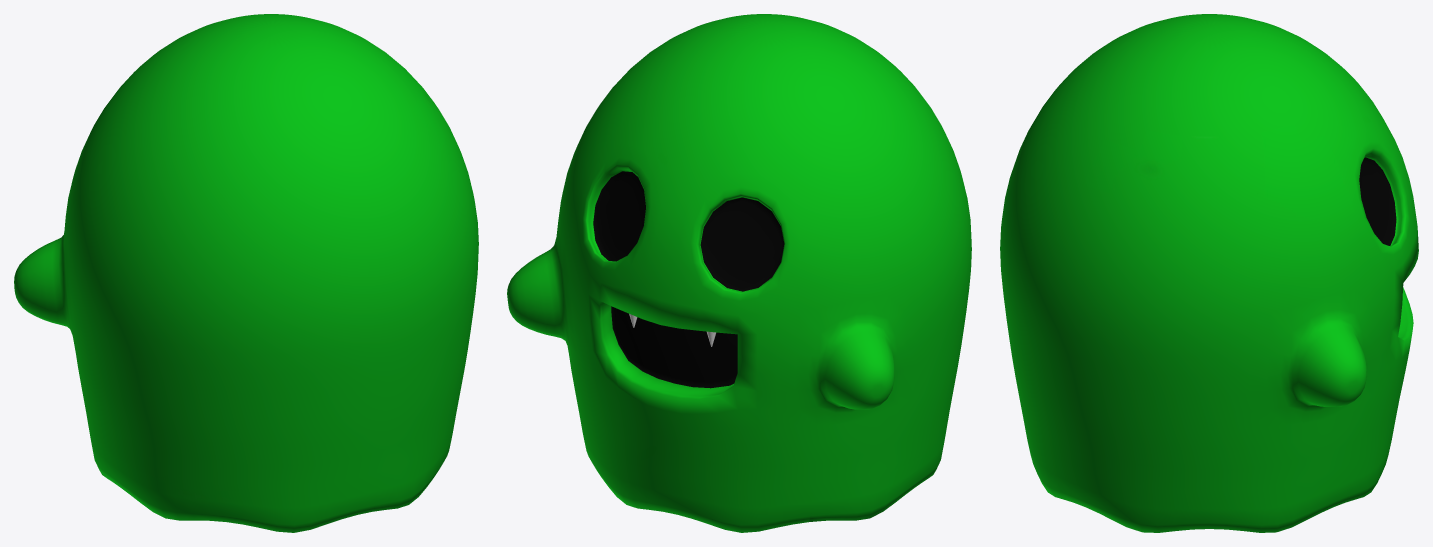
Rendered from ghost.fbx.
3 renders of one model, left to right at view 1: azimuth 30°, elevation 25°; view 2: azimuth 150°, elevation 25°; view 3: azimuth 270°, elevation 25°, orthographic.
Visible parts, largest first — view 1: ghost_body; view 2: ghost_body; view 3: ghost_body.
Part boxes in pixels (<box>): ghost_body: <box>14,14,478,532</box>; ghost_body: <box>507,14,971,532</box>; ghost_body: <box>1000,14,1418,532</box>.
Size of the model in its own units: 209 by 227 by 197.
Materials: 1 (1 with a texture image).
